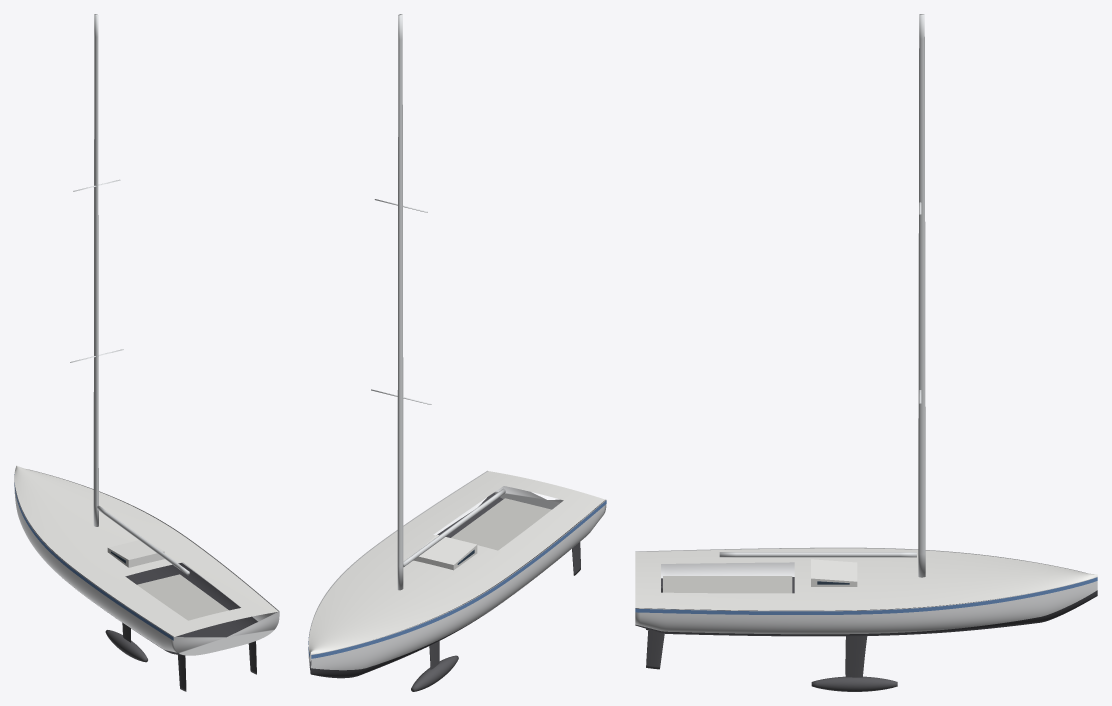
File: groupe_sceta.glb
The picture shows the model from 3 angles, left to right: view 1: azimuth 30°, elevation 25°; view 2: azimuth 150°, elevation 25°; view 3: azimuth 270°, elevation 25°; orthographic projection. The views are drawn at different scales.
Visible parts, largest first — view 1: pont, coque, mat, fond, cockpit, rouf, bande, app_bulbe, pivot_bome; view 2: pont, coque, mat, cockpit, fond, bande, rouf, app_bulbe, pivot_bome; view 3: pont, coque, mat, cockpit, fond, bande, rouf, pivot_bome, app_bulbe, app_quille.
Boxes of the visible parts, box(x1,y1,x2,y2) form: pont: box(14, 465, 278, 636); coque: box(14, 469, 279, 655); mat: box(93, 14, 98, 526); fond: box(15, 487, 257, 655); cockpit: box(137, 574, 228, 620); rouf: box(107, 540, 164, 567); bande: box(14, 474, 173, 640); app_bulbe: box(105, 630, 147, 662); pivot_bome: box(97, 505, 189, 575); pont: box(308, 471, 604, 654); coque: box(308, 470, 606, 670); mat: box(397, 14, 403, 590); cockpit: box(451, 498, 551, 550); fond: box(309, 492, 581, 678); bande: box(308, 500, 606, 658); rouf: box(413, 534, 477, 570); app_bulbe: box(411, 655, 458, 691); pivot_bome: box(403, 488, 505, 567); pont: box(635, 548, 1097, 610); coque: box(635, 547, 1097, 634); mat: box(918, 14, 925, 577); cockpit: box(663, 576, 792, 593); fond: box(635, 577, 1097, 636); bande: box(635, 577, 1097, 614); rouf: box(811, 559, 857, 586); pivot_bome: box(719, 552, 916, 557); app_bulbe: box(811, 676, 897, 691); app_quille: box(845, 610, 867, 677).
Bounding box in the file's own units: 5.91 × 29.5 × 18.28.
